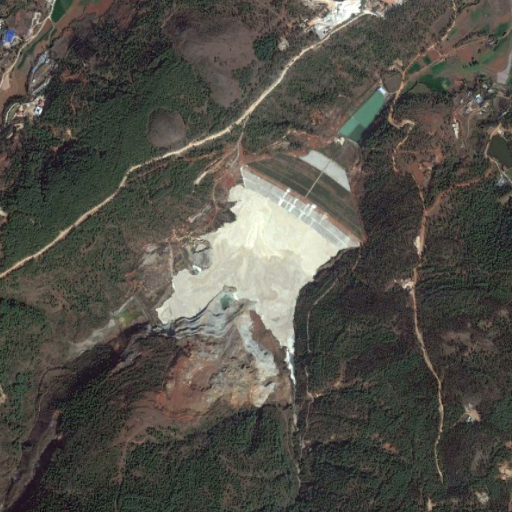tp: (158, 153, 361, 379)
